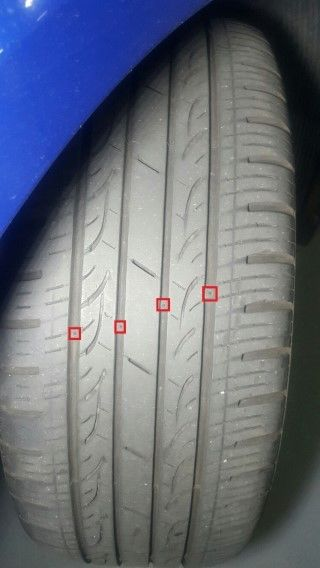middle_condition: (3, 20, 308, 565)
